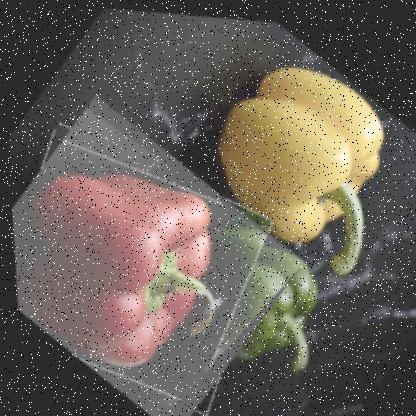capsicum: (4, 87, 312, 415)
